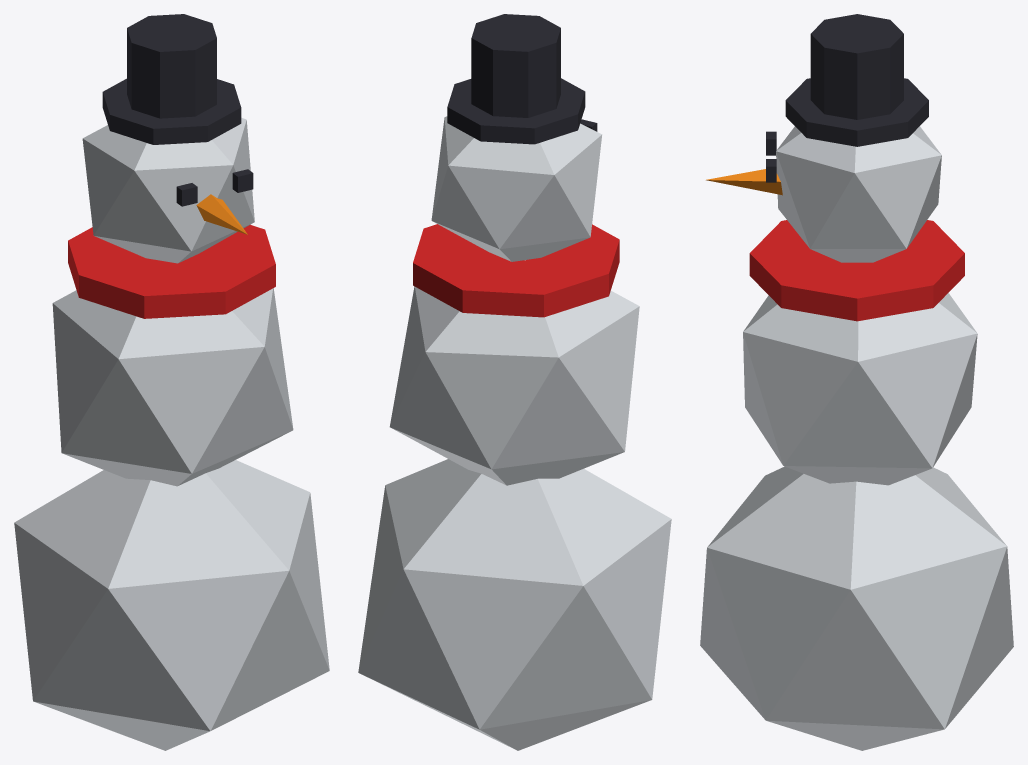
File: snowman.glb
3 renders of one model, left to right at view 1: azimuth 30°, elevation 25°; view 2: azimuth 150°, elevation 25°; view 3: azimuth 270°, elevation 25°, orthographic.
Visible parts, largest first — view 1: snowman; view 2: snowman; view 3: snowman.
Part boxes in pixels (bbox=[...]): snowman: bbox=[14, 14, 329, 750]; snowman: bbox=[358, 14, 671, 750]; snowman: bbox=[700, 14, 1013, 750].
Size of the model in its own units: 0.8789 by 2.21 by 0.8748.
